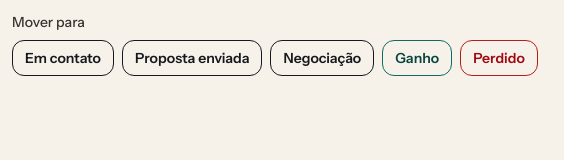
Scenario: StageActions › sem conexão, diz que exige internet
Click the button with aria-label "Mover para Em contato" at (63, 58), box [12,40,114,76]
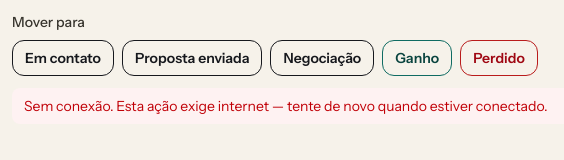
Expected: the message shows "Sem conexão", [24,97,548,115]
